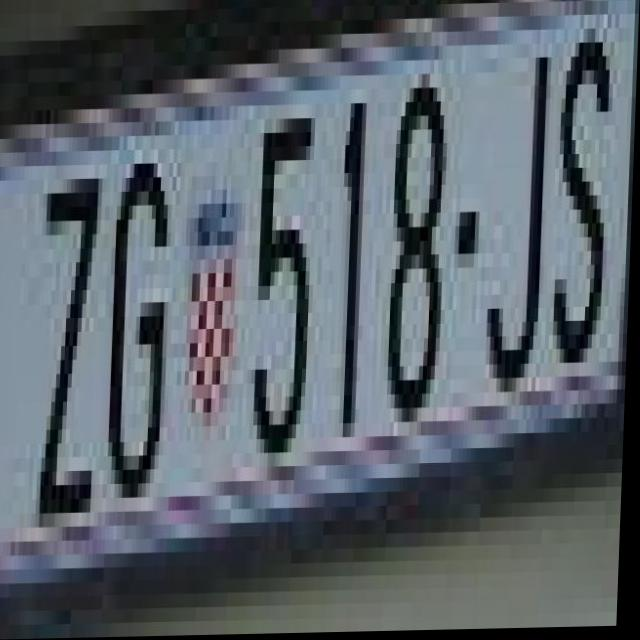1: (335, 105, 383, 425)
5: (240, 78, 322, 469)
8: (377, 62, 451, 425)
G: (114, 150, 175, 485)
S: (551, 17, 616, 366)
Z: (28, 165, 108, 500)
